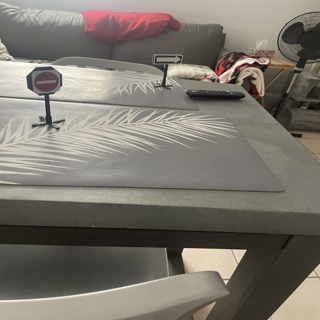sign_noentry: (30, 68, 62, 96)
sign_oneway_right: (152, 54, 181, 65)
